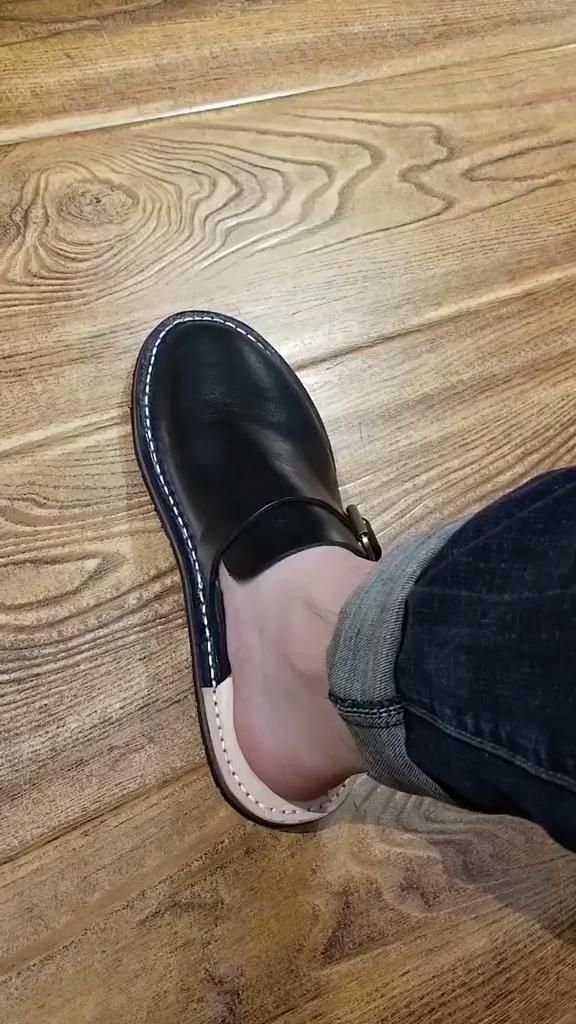cuero: (129, 308, 382, 827)
